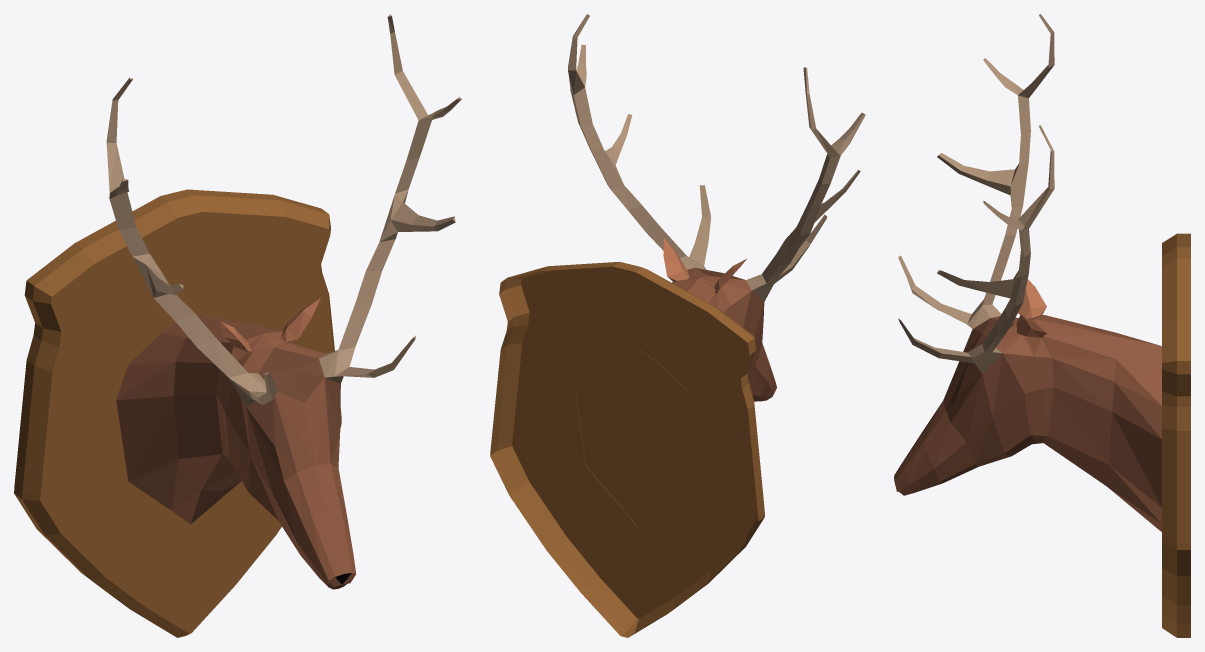
The model's file is DeerTrophy.fbx.
The picture shows the model from 3 angles, left to right: view 1: azimuth 30°, elevation 25°; view 2: azimuth 150°, elevation 25°; view 3: azimuth 270°, elevation 25°; orthographic projection. The views are drawn at different scales.
Parts seen in each view (by area): view 1: DeerTrophy; view 2: DeerTrophy; view 3: DeerTrophy.
Boxes of the visible parts, box(x1,y1,x2,y2) form: DeerTrophy: box(14, 14, 461, 637); DeerTrophy: box(490, 14, 865, 637); DeerTrophy: box(894, 14, 1190, 637).
Bounding box in the file's own units: 0.4461 × 0.8148 × 0.3871.
